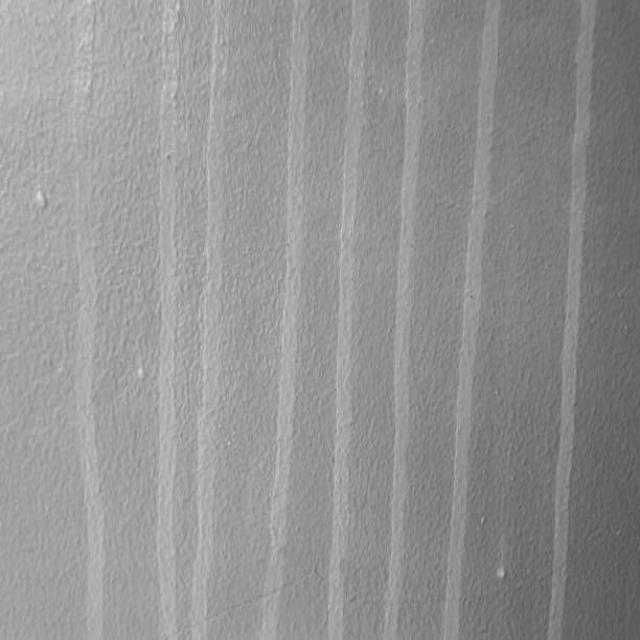paint drips: (434, 0, 508, 640), (542, 1, 606, 640), (257, 0, 317, 640), (379, 0, 433, 640), (326, 0, 377, 640), (188, 0, 236, 640), (64, 0, 111, 640), (154, 0, 182, 640), (29, 146, 55, 233), (491, 537, 509, 584), (128, 342, 145, 388)
